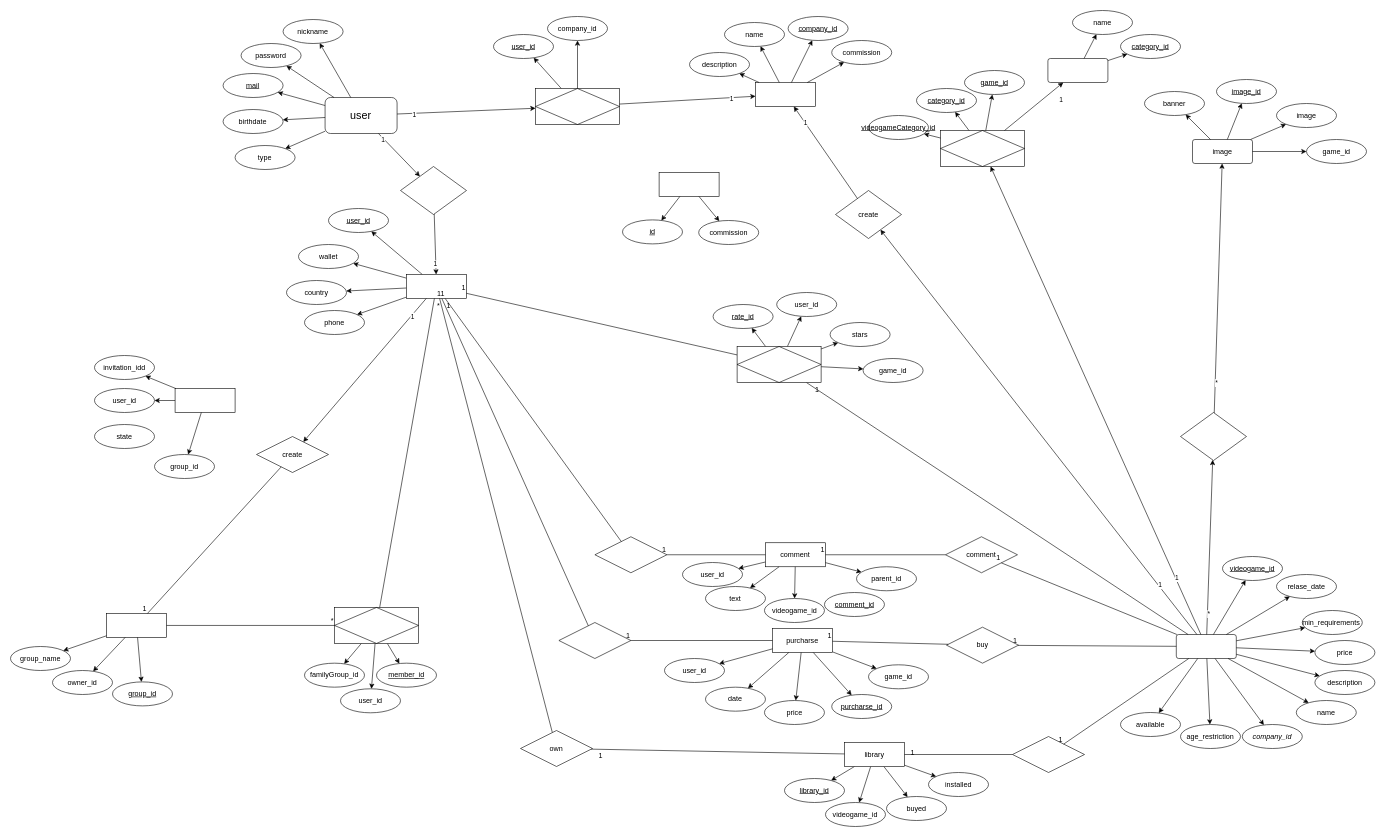
The diagram is 1385 pixels wide and 837 high, and some of its shapes have lost their labels. The shapes that lost their labels are listed below. From the top down, each one's centre as x and y in pixels, then its label:
At (x=1077, y=70): "category".
At (x=577, y=106): "userCompany".
At (x=785, y=94): "company".
At (x=982, y=148): "videogameCategory".
At (x=433, y=190): "owns".
At (x=688, y=184): "globalComission".
At (x=436, y=286): "gamer".
At (x=778, y=364): "rate".
At (x=204, y=400): "invitation".
At (x=1213, y=436): "shows".
At (x=630, y=554): "leave".
At (x=136, y=625): "familyGroup".
At (x=376, y=625): "groupMember".
At (x=594, y=640): "carry out".
At (x=1206, y=646): "videogame".
At (x=1048, y=754): "store".
